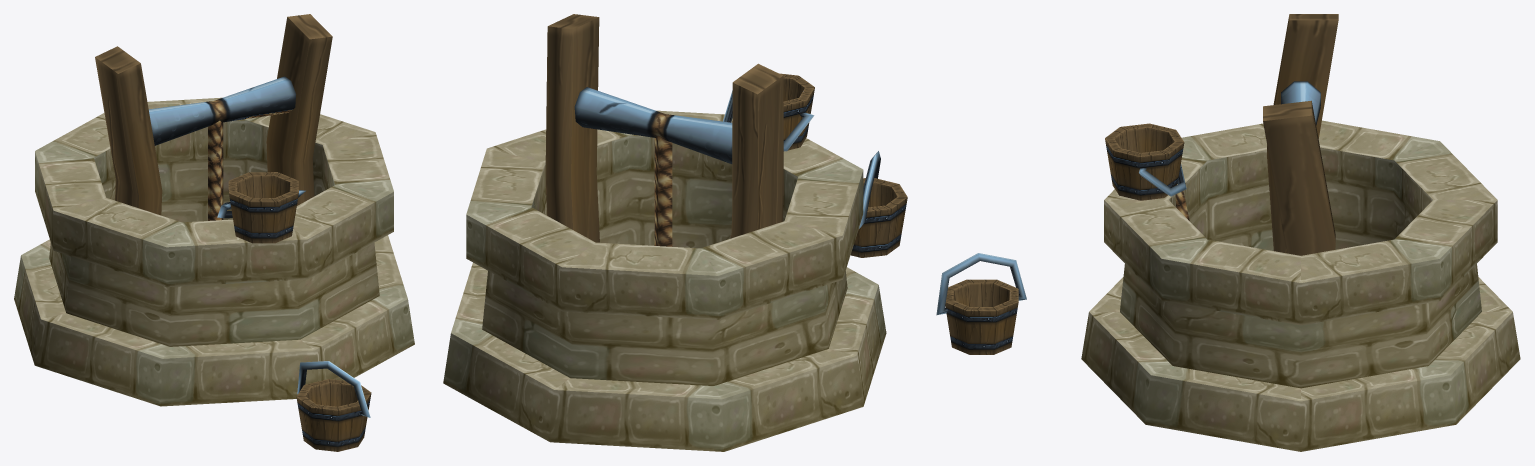
The model's file is well.fbx.
The picture shows the model from 3 angles, left to right: view 1: azimuth 30°, elevation 25°; view 2: azimuth 150°, elevation 25°; view 3: azimuth 270°, elevation 25°; orthographic projection. The views are drawn at different scales.
Parts seen in each view (by area): view 1: well; view 2: well; view 3: well.
Part boxes in pixels (box(x1,y1,x2,y2)): well: box(14, 14, 414, 451); well: box(443, 14, 907, 451); well: box(936, 14, 1520, 451).
Bounding box in the file's own units: 347 × 261 × 462.
